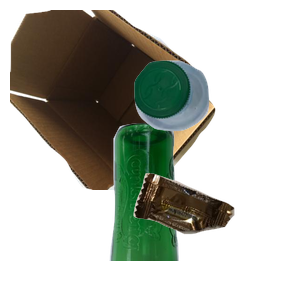cardboard: (10, 10, 218, 190)
glass: (107, 120, 278, 300)
plastic: (132, 58, 300, 182)
trash: (131, 171, 300, 300)
